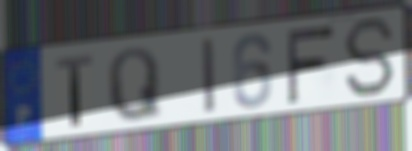6: (230, 31, 274, 111)
F: (283, 22, 338, 107)
I: (199, 34, 219, 117)
Q: (104, 45, 165, 125)
S: (341, 15, 397, 100)
T: (54, 52, 95, 129)
